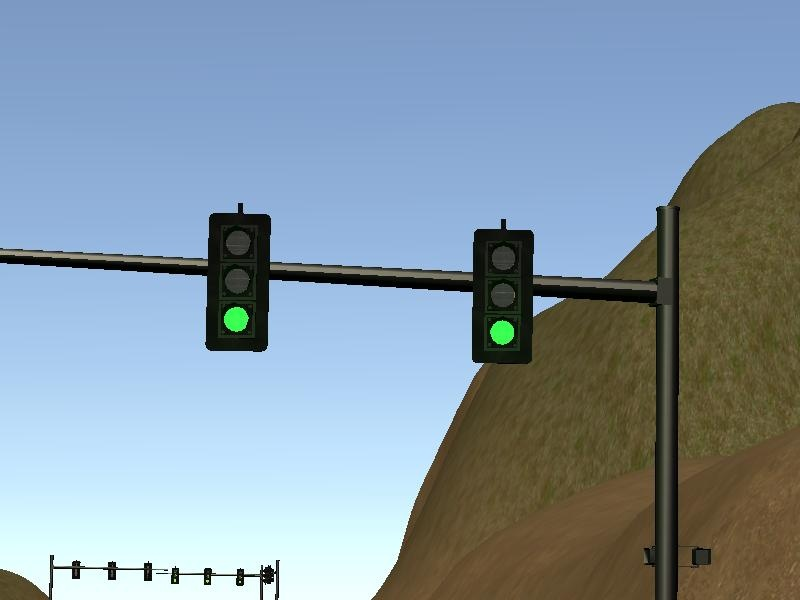GREEN: (206, 213, 269, 351), (471, 228, 534, 363)
